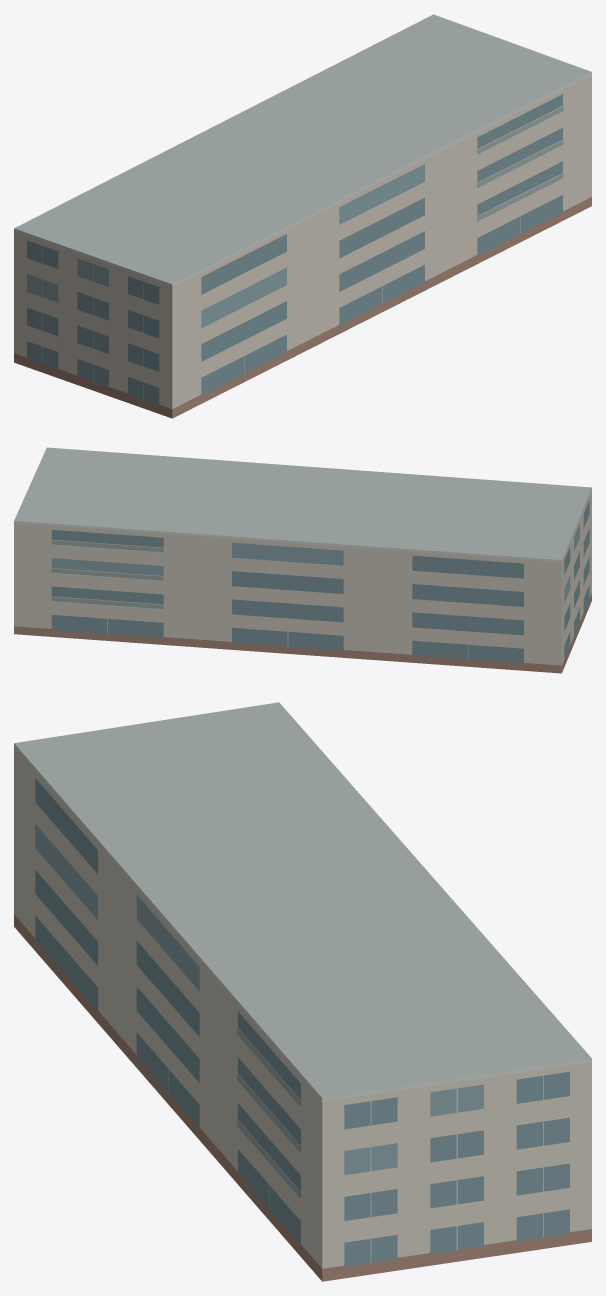
Rendered from survey-upis-32864364.glb.
The picture shows the model from 3 angles, top to bottom: view 1: azimuth 30°, elevation 25°; view 2: azimuth 150°, elevation 25°; view 3: azimuth 270°, elevation 25°; orthographic projection. The views are drawn at different scales.
Visible parts, largest first — view 1: survey-upis-32864364.tmp; view 2: survey-upis-32864364.tmp; view 3: survey-upis-32864364.tmp.
Part boxes in pixels (bbox=[...]): survey-upis-32864364.tmp: bbox=[14, 14, 591, 418]; survey-upis-32864364.tmp: bbox=[14, 447, 591, 673]; survey-upis-32864364.tmp: bbox=[14, 702, 591, 1281].
Size of the model in its own units: 56.48 by 12.2 by 34.83.
